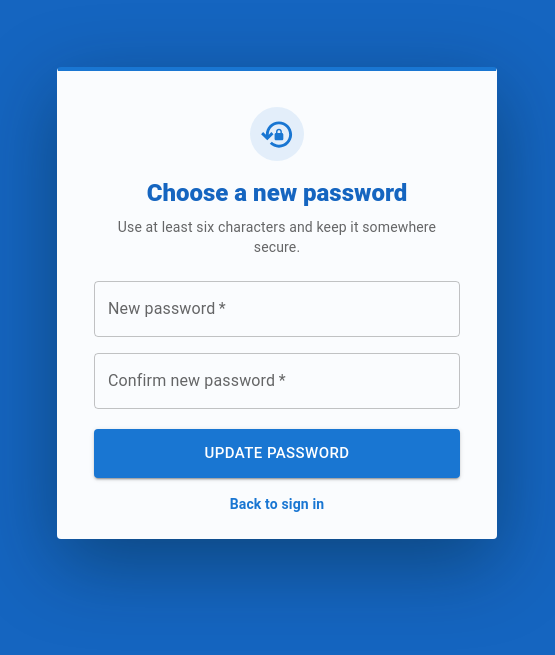
Test: ResetPassword › requires the existing six-character password minimum
This screenshot has width=555, height=655.
Step 1. Type "short" into the password field labelled "New password *" → (277, 309), box x1=94 y1=281 x2=460 y2=337
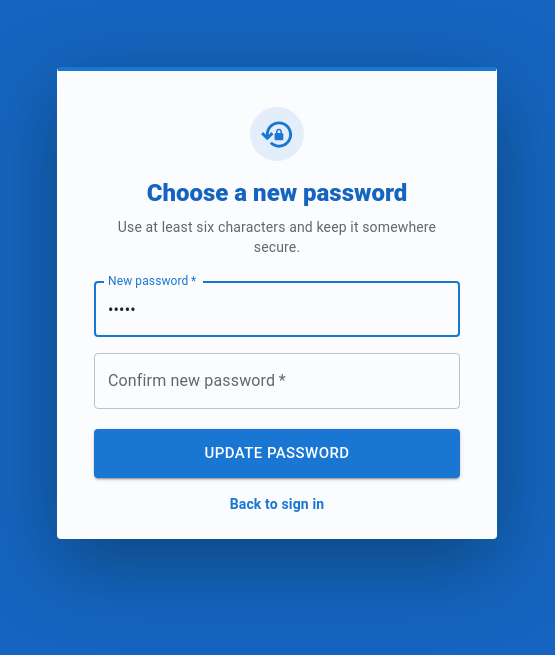
Step 2. Type "short" into the password field labelled "Confirm new password *" → (277, 381), box x1=94 y1=353 x2=460 y2=409
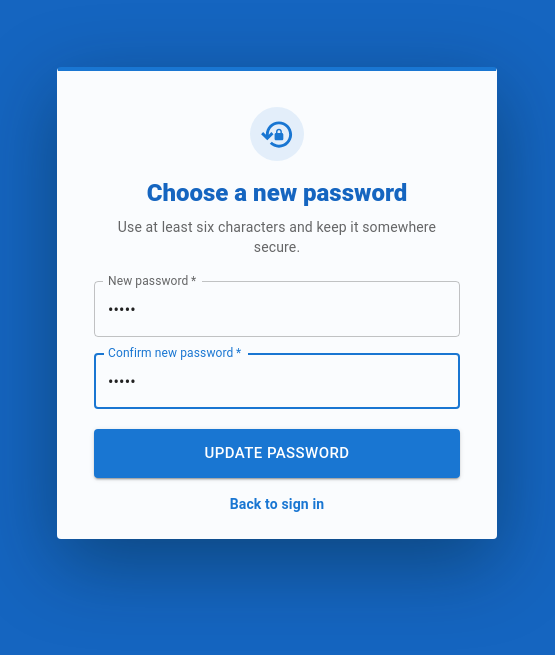
Step 3. Click the button "Update password" → click(277, 454), box x1=94 y1=429 x2=460 y2=478
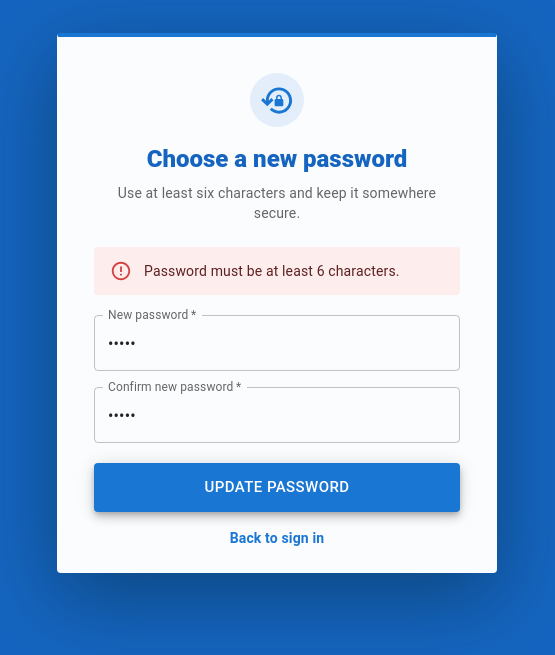
Now the text "Password must be at least 6 characters." is shown, box x1=144 y1=263 x2=400 y2=279
